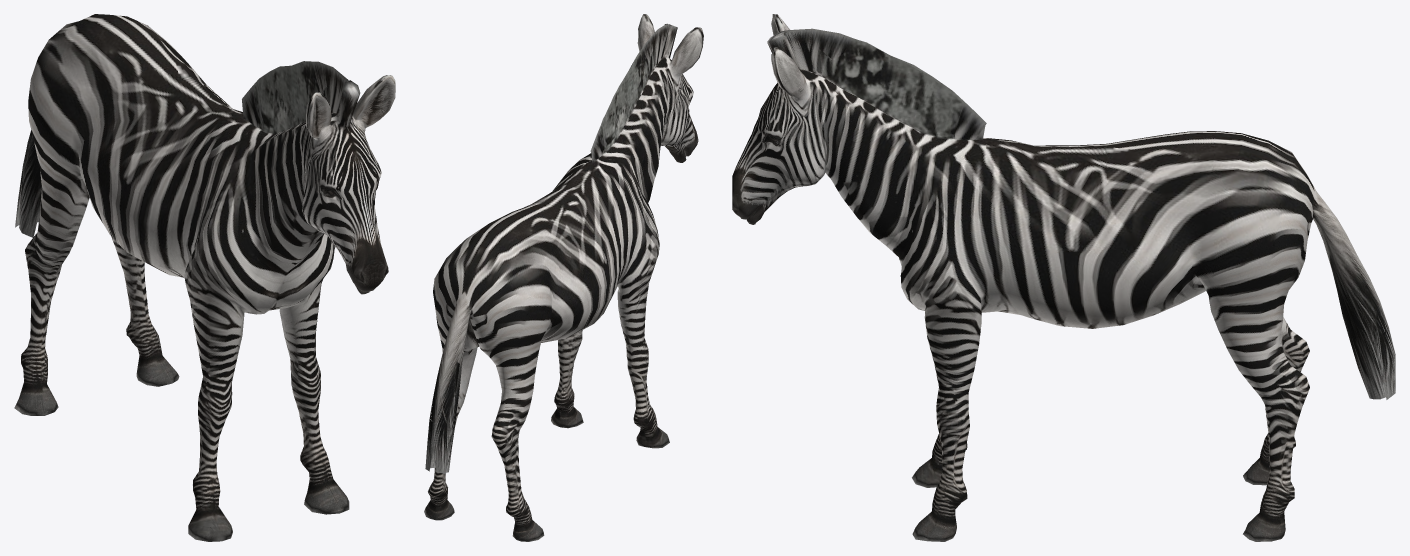
Rendered from zebra.glb.
The picture shows the model from 3 angles, left to right: view 1: azimuth 30°, elevation 25°; view 2: azimuth 150°, elevation 25°; view 3: azimuth 270°, elevation 25°; orthographic projection. The views are drawn at different scales.
Size of the model in its own units: 0.2607 by 0.7949 by 1.
Materials: 1 (1 with a texture image).
